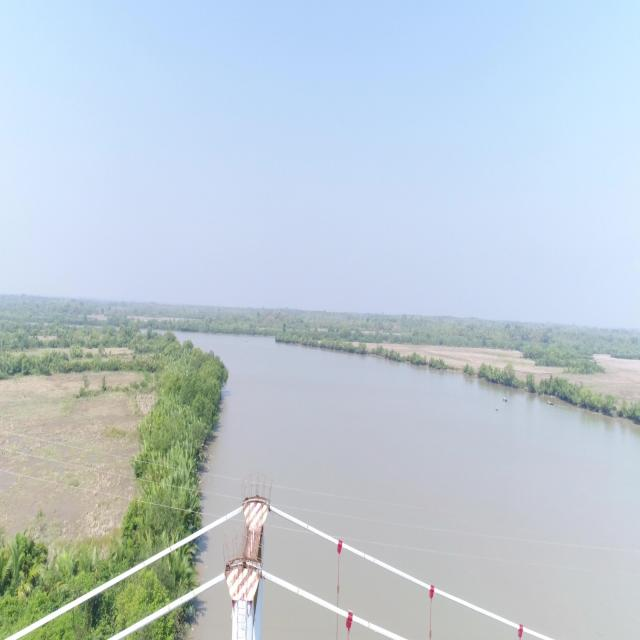crack: (181, 597, 183, 604), (297, 588, 299, 594), (193, 590, 195, 596), (168, 605, 170, 611), (143, 562, 145, 567), (225, 516, 227, 520), (364, 554, 366, 558), (368, 622, 369, 628), (307, 525, 308, 529), (170, 547, 171, 551), (374, 558, 374, 563)
